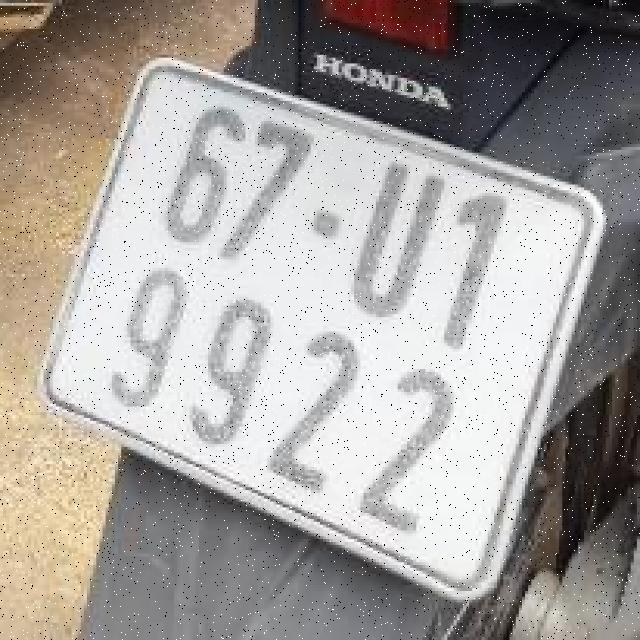1: (443, 176, 505, 352)
2: (360, 348, 466, 546), (268, 314, 356, 493)
6: (168, 97, 242, 255)
7: (228, 115, 312, 280)
9: (184, 285, 274, 450), (109, 255, 186, 420)
U: (358, 162, 444, 332)
